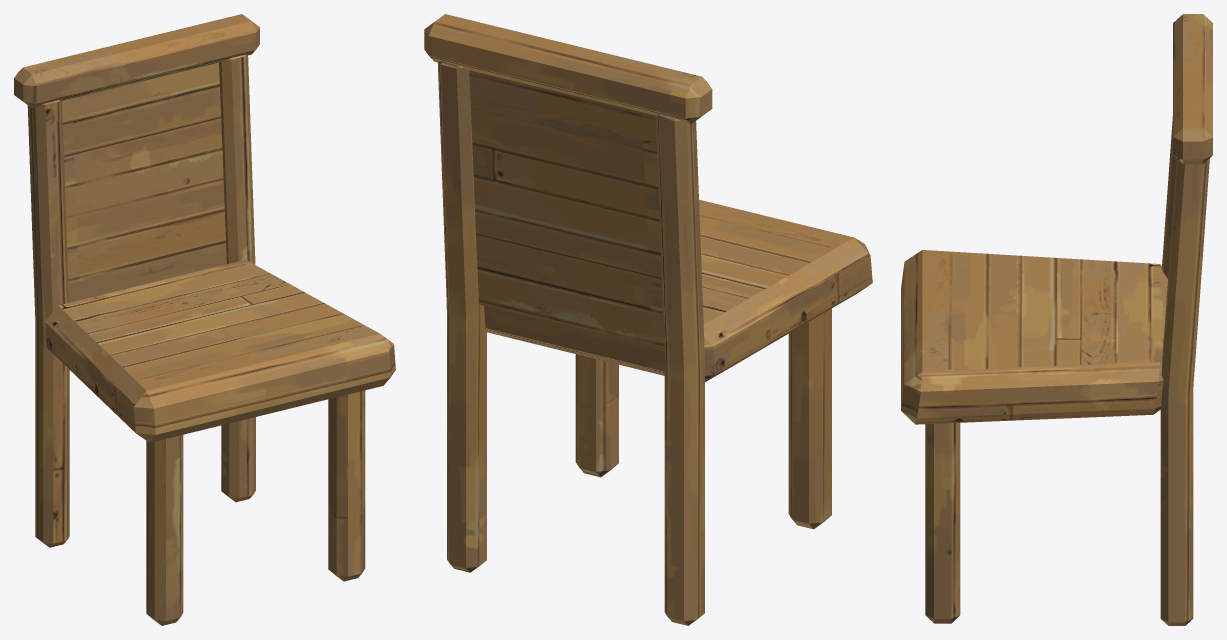
The model's file is chair_cute.glb.
3 views of the same model, side by side, from view 1: azimuth 30°, elevation 25°; view 2: azimuth 150°, elevation 25°; view 3: azimuth 270°, elevation 25° (orthographic). The views are drawn at different scales.
Visible parts, largest first — view 1: chair_geo1; view 2: chair_geo1; view 3: chair_geo1.
Boxes of the visible parts, left/top/right/bottom form: chair_geo1: left=14, top=14, right=395, bottom=625; chair_geo1: left=424, top=14, right=872, bottom=625; chair_geo1: left=901, top=14, right=1212, bottom=625.
Size of the model in its own units: 0.5913 by 1.02 by 0.5757.
1 material, 1 textured.
